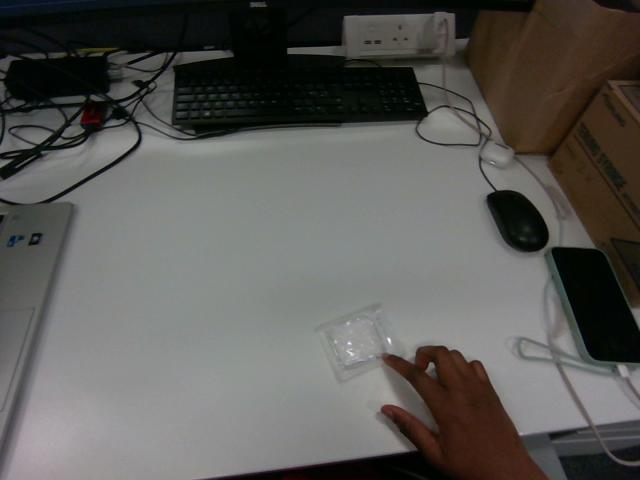gauze: (317, 304, 401, 380)
